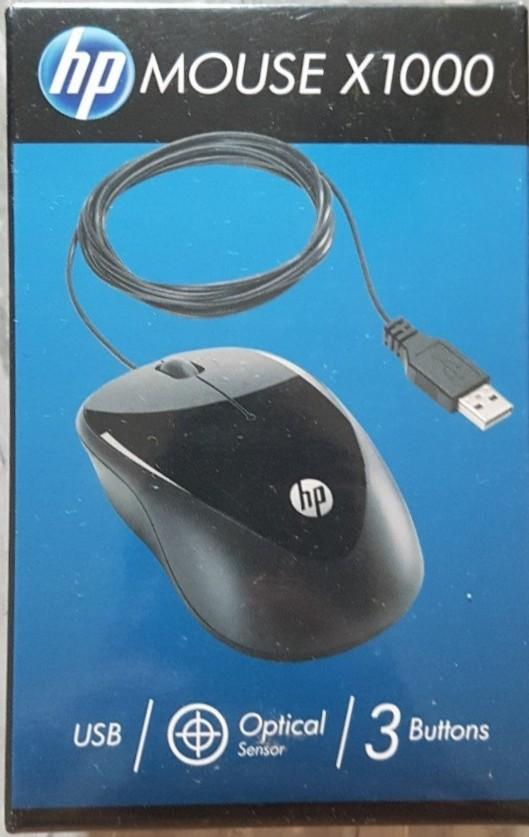hp-mouse-X1000: (73, 137, 510, 671)
